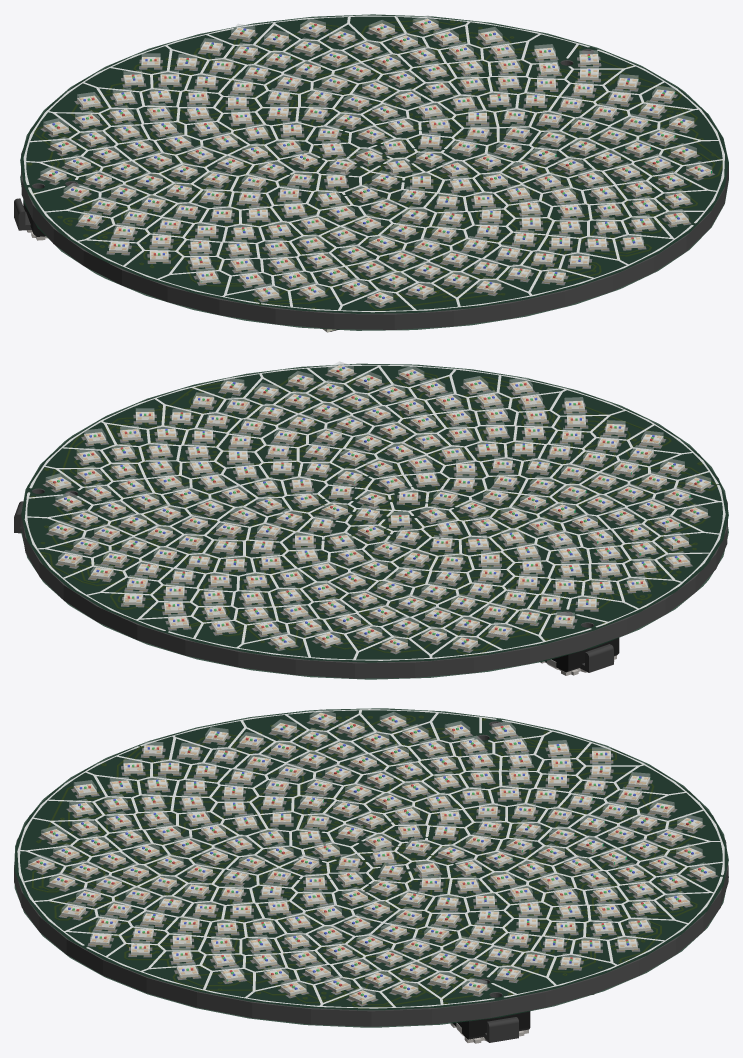
The model's file is board.glb.
3 renders of one model, top to bottom at view 1: azimuth 30°, elevation 25°; view 2: azimuth 150°, elevation 25°; view 3: azimuth 270°, elevation 25°, orthographic.
Parts seen in each view (by area): view 1: round-pendant_soldermask (×2), round-pendant_PCB, round-pendant_silkscreen, round-pendant_pad, round-pendant_copper, SW-SMD_EVQP7C01P-L3.6-W3.5-H1.4-P3.6-LS4.7; view 2: round-pendant_soldermask (×2), round-pendant_PCB, round-pendant_silkscreen, round-pendant_pad, round-pendant_copper, SW-SMD_EVQP7C01P-L3.6-W3.5-H1.4-P3.6-LS4.7; view 3: round-pendant_soldermask (×2), round-pendant_PCB, round-pendant_silkscreen, round-pendant_pad, round-pendant_copper, SW-SMD_EVQP7C01P-L3.6-W3.5-H1.4-P3.6-LS4.7.
Boxes of the visible parts, x1,y1,x2,y2 form: round-pendant_soldermask (×2): [20, 14, 728, 330]; round-pendant_PCB: [21, 17, 728, 329]; round-pendant_silkscreen: [23, 15, 724, 312]; round-pendant_pad: [37, 26, 714, 307]; round-pendant_copper: [27, 21, 721, 309]; SW-SMD_EVQP7C01P-L3.6-W3.5-H1.4-P3.6-LS4.7: [14, 198, 47, 240]; round-pendant_soldermask (×2): [21, 363, 728, 679]; round-pendant_PCB: [21, 366, 727, 678]; round-pendant_silkscreen: [24, 364, 725, 660]; round-pendant_pad: [43, 372, 713, 654]; round-pendant_copper: [41, 373, 716, 653]; SW-SMD_EVQP7C01P-L3.6-W3.5-H1.4-P3.6-LS4.7: [540, 638, 619, 675]; round-pendant_soldermask (×2): [14, 708, 728, 1027]; round-pendant_PCB: [14, 711, 728, 1026]; round-pendant_silkscreen: [17, 709, 724, 1008]; round-pendant_pad: [25, 720, 718, 1006]; round-pendant_copper: [32, 716, 699, 1006]; SW-SMD_EVQP7C01P-L3.6-W3.5-H1.4-P3.6-LS4.7: [450, 1011, 530, 1043].
Bounding box in the file's own units: 0.038 × 0.00283 × 0.038.
